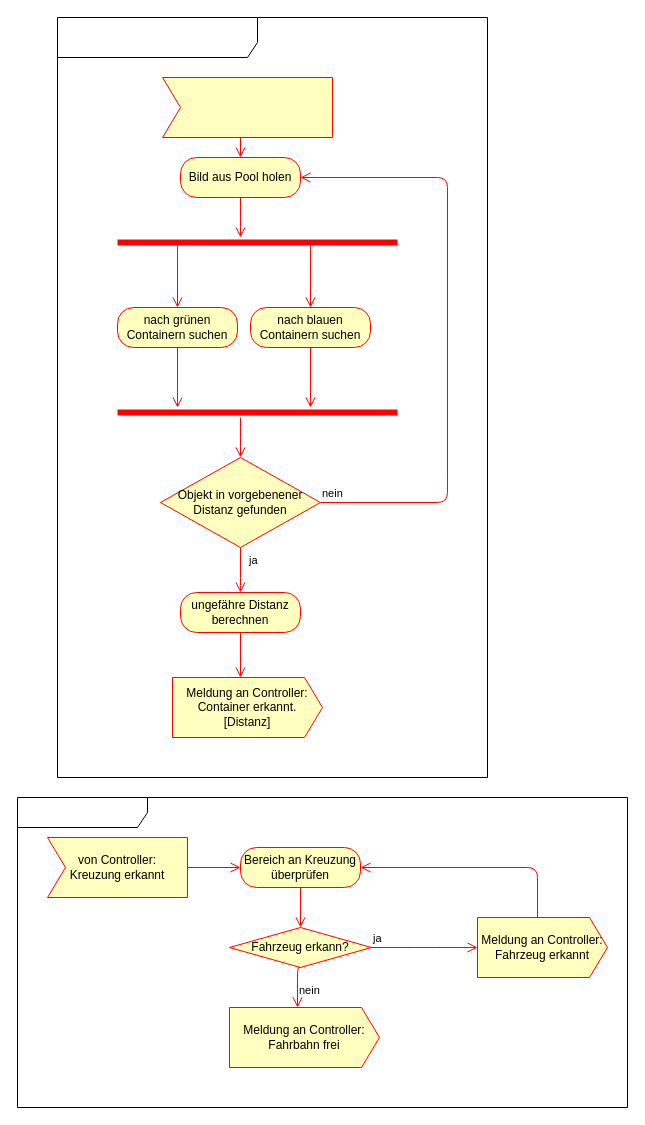
Some shapes in this 645 by 1125 pixel diagram are drawn without their labels. Here are the shapes that lost their labels. From the top down, the box of each, then its label:
(162, 76, 332, 138): Meldung von Controller: Objekterkennung starten
(56, 16, 488, 778): Objekterkennung: Container und Entleerungsbecken
(16, 796, 628, 1108): Objekterkennung: Rechtsvortritt
